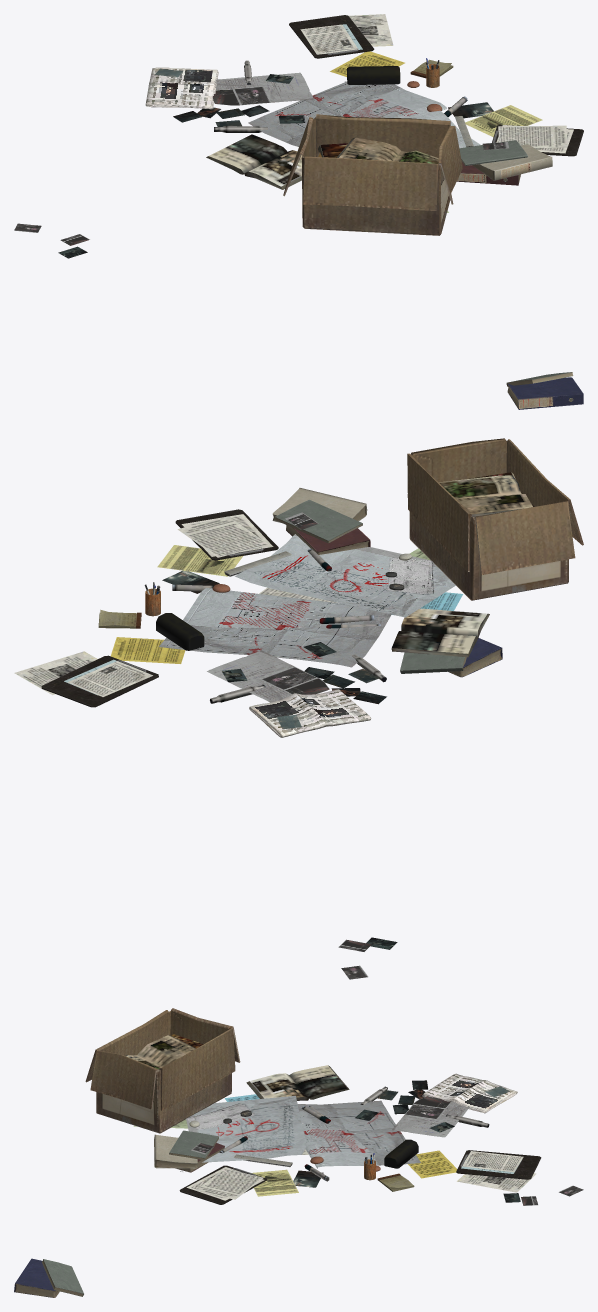
The model's file is sm39_066_strategymapset01a.fbx.
3 renders of one model, top to bottom at view 1: azimuth 30°, elevation 25°; view 2: azimuth 150°, elevation 25°; view 3: azimuth 270°, elevation 25°, orthographic. The views are drawn at different scales.
Parts seen in each view (by area): view 1: LOD_1_Group_0_Sub_4__sm36_006_Cardboard05A_A_Mat, LOD_1_Group_0_Sub_7__sm36_050_StrategyMap02A_B_Mat, LOD_1_Group_0_Sub_3__sm36_049_Paper01A_A_Mat, LOD_1_Group_0_Sub_6__sm36_046_Magazine01A_A_Mat, LOD_1_Group_0_Sub_8__sm36_050_StrategyMap02A_A_Mat, LOD_1_Group_4_Sub_1__sm36_007_PaperWork01A_A_Mat, LOD_1_Group_0_Sub_1__sm36_045_Clipboard01A_A_Mat, LOD_1_Group_0_Sub_9__sm30_061_WhiteBoard02A_A_Mat, LOD_1_Group_7_Sub_1__sm36_007_PaperWork01A_A_Mat, LOD_1_Group_8_Sub_1__sm36_007_PaperWork01A_A_Mat, LOD_1_Group_9_Sub_1__sm36_007_PaperWork01A_A_Mat; view 2: LOD_1_Group_0_Sub_7__sm36_050_StrategyMap02A_B_Mat, LOD_1_Group_0_Sub_4__sm36_006_Cardboard05A_A_Mat, LOD_1_Group_0_Sub_3__sm36_049_Paper01A_A_Mat, LOD_1_Group_0_Sub_6__sm36_046_Magazine01A_A_Mat, LOD_1_Group_0_Sub_8__sm36_050_StrategyMap02A_A_Mat, LOD_1_Group_0_Sub_9__sm30_061_WhiteBoard02A_A_Mat, LOD_1_Group_0_Sub_1__sm36_045_Clipboard01A_A_Mat, LOD_1_Group_8_Sub_1__sm36_007_PaperWork01A_A_Mat, LOD_1_Group_7_Sub_1__sm36_007_PaperWork01A_A_Mat, LOD_1_Group_6_Sub_1__sm36_007_PaperWork01A_A_Mat, LOD_1_Group_9_Sub_1__sm36_007_PaperWork01A_A_Mat, LOD_1_Group_4_Sub_1__sm36_007_PaperWork01A_A_Mat (+2 smaller); view 3: LOD_1_Group_0_Sub_7__sm36_050_StrategyMap02A_B_Mat, LOD_1_Group_0_Sub_4__sm36_006_Cardboard05A_A_Mat, LOD_1_Group_0_Sub_3__sm36_049_Paper01A_A_Mat, LOD_1_Group_0_Sub_6__sm36_046_Magazine01A_A_Mat, LOD_1_Group_0_Sub_8__sm36_050_StrategyMap02A_A_Mat, LOD_1_Group_0_Sub_1__sm36_045_Clipboard01A_A_Mat, LOD_1_Group_0_Sub_9__sm30_061_WhiteBoard02A_A_Mat, LOD_1_Group_4_Sub_1__sm36_007_PaperWork01A_A_Mat, LOD_1_Group_7_Sub_1__sm36_007_PaperWork01A_A_Mat, LOD_1_Group_6_Sub_1__sm36_007_PaperWork01A_A_Mat, LOD_1_Group_8_Sub_1__sm36_007_PaperWork01A_A_Mat, LOD_1_Group_4_Sub_2__sm36_012_PaperMagnet01A_A_Mat (+1 smaller).
Boxes of the visible parts, left/top/right/bottom form: LOD_1_Group_0_Sub_4__sm36_006_Cardboard05A_A_Mat: left=283, top=114, right=462, bottom=235; LOD_1_Group_0_Sub_7__sm36_050_StrategyMap02A_B_Mat: left=14, top=68, right=508, bottom=258; LOD_1_Group_0_Sub_3__sm36_049_Paper01A_A_Mat: left=300, top=14, right=573, bottom=212; LOD_1_Group_0_Sub_6__sm36_046_Magazine01A_A_Mat: left=206, top=134, right=438, bottom=189; LOD_1_Group_0_Sub_8__sm36_050_StrategyMap02A_A_Mat: left=145, top=67, right=218, bottom=109; LOD_1_Group_4_Sub_1__sm36_007_PaperWork01A_A_Mat: left=507, top=377, right=583, bottom=409; LOD_1_Group_0_Sub_1__sm36_045_Clipboard01A_A_Mat: left=289, top=15, right=583, bottom=156; LOD_1_Group_0_Sub_9__sm30_061_WhiteBoard02A_A_Mat: left=214, top=60, right=467, bottom=132; LOD_1_Group_7_Sub_1__sm36_007_PaperWork01A_A_Mat: left=472, top=144, right=552, bottom=180; LOD_1_Group_8_Sub_1__sm36_007_PaperWork01A_A_Mat: left=459, top=140, right=527, bottom=165; LOD_1_Group_9_Sub_1__sm36_007_PaperWork01A_A_Mat: left=457, top=162, right=520, bottom=185; LOD_1_Group_0_Sub_7__sm36_050_StrategyMap02A_B_Mat: left=159, top=512, right=455, bottom=979; LOD_1_Group_0_Sub_4__sm36_006_Cardboard05A_A_Mat: left=407, top=438, right=583, bottom=600; LOD_1_Group_0_Sub_3__sm36_049_Paper01A_A_Mat: left=14, top=514, right=462, bottom=696; LOD_1_Group_0_Sub_6__sm36_046_Magazine01A_A_Mat: left=391, top=472, right=534, bottom=657; LOD_1_Group_0_Sub_8__sm36_050_StrategyMap02A_A_Mat: left=249, top=689, right=371, bottom=737; LOD_1_Group_0_Sub_9__sm30_061_WhiteBoard02A_A_Mat: left=156, top=548, right=386, bottom=703; LOD_1_Group_0_Sub_1__sm36_045_Clipboard01A_A_Mat: left=41, top=509, right=278, bottom=707; LOD_1_Group_8_Sub_1__sm36_007_PaperWork01A_A_Mat: left=274, top=499, right=362, bottom=543; LOD_1_Group_7_Sub_1__sm36_007_PaperWork01A_A_Mat: left=272, top=488, right=367, bottom=522; LOD_1_Group_6_Sub_1__sm36_007_PaperWork01A_A_Mat: left=400, top=652, right=466, bottom=673; LOD_1_Group_9_Sub_1__sm36_007_PaperWork01A_A_Mat: left=286, top=525, right=370, bottom=554; LOD_1_Group_4_Sub_1__sm36_007_PaperWork01A_A_Mat: left=448, top=638, right=502, bottom=677; LOD_1_Group_0_Sub_7__sm36_050_StrategyMap02A_B_Mat: left=186, top=1080, right=583, bottom=1205; LOD_1_Group_0_Sub_4__sm36_006_Cardboard05A_A_Mat: left=85, top=1008, right=240, bottom=1133; LOD_1_Group_0_Sub_3__sm36_049_Paper01A_A_Mat: left=133, top=1094, right=536, bottom=1200; LOD_1_Group_0_Sub_6__sm36_046_Magazine01A_A_Mat: left=125, top=1034, right=349, bottom=1100; LOD_1_Group_0_Sub_8__sm36_050_StrategyMap02A_A_Mat: left=422, top=1073, right=517, bottom=1113; LOD_1_Group_0_Sub_1__sm36_045_Clipboard01A_A_Mat: left=179, top=1150, right=541, bottom=1204; LOD_1_Group_0_Sub_9__sm30_061_WhiteBoard02A_A_Mat: left=219, top=1086, right=489, bottom=1181; LOD_1_Group_4_Sub_1__sm36_007_PaperWork01A_A_Mat: left=14, top=1258, right=59, bottom=1297; LOD_1_Group_7_Sub_1__sm36_007_PaperWork01A_A_Mat: left=154, top=1134, right=197, bottom=1168; LOD_1_Group_6_Sub_1__sm36_007_PaperWork01A_A_Mat: left=42, top=1259, right=83, bottom=1296; LOD_1_Group_8_Sub_1__sm36_007_PaperWork01A_A_Mat: left=169, top=1130, right=218, bottom=1160; LOD_1_Group_4_Sub_2__sm36_012_PaperMagnet01A_A_Mat: left=189, top=1110, right=323, bottom=1167.
Bounding box in the file's own units: 2.04 × 1.26 × 3.13.
